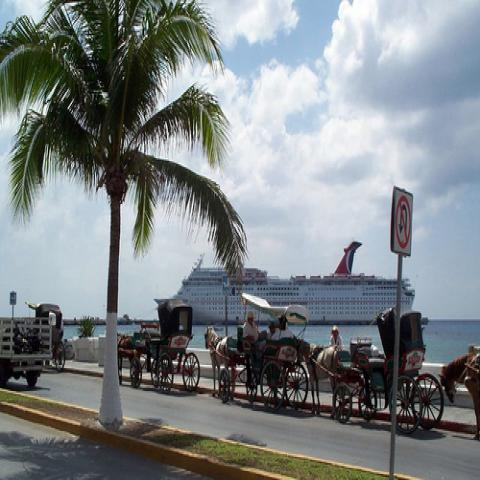truck: (0, 317, 52, 386)
